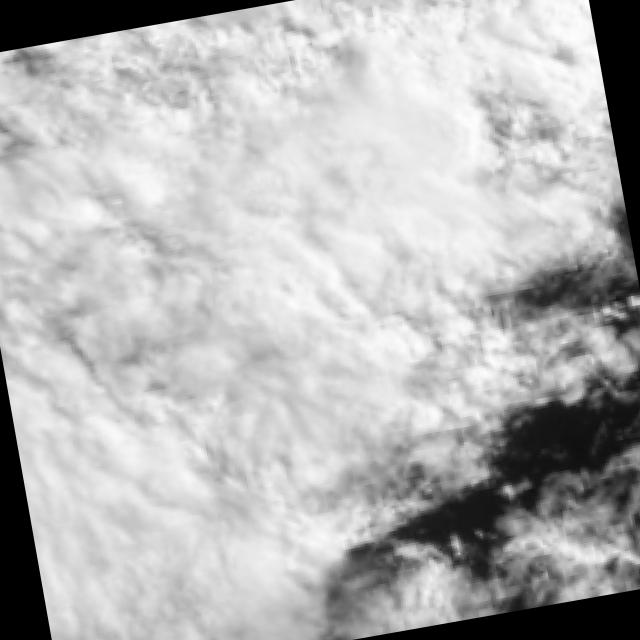CB: (15, 375, 312, 640), (259, 48, 491, 292)
